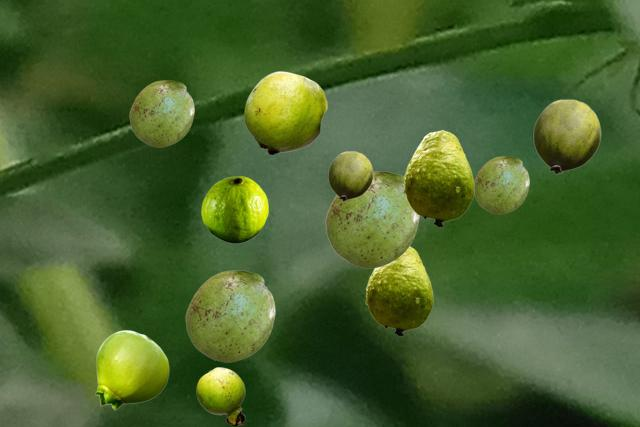guava: (325, 171, 418, 267), (185, 270, 274, 361), (244, 71, 326, 154), (403, 130, 473, 226), (365, 246, 432, 335), (95, 330, 168, 409), (533, 99, 600, 173), (201, 176, 267, 242), (129, 80, 193, 146), (474, 156, 528, 213), (196, 367, 244, 424), (328, 151, 372, 200)
